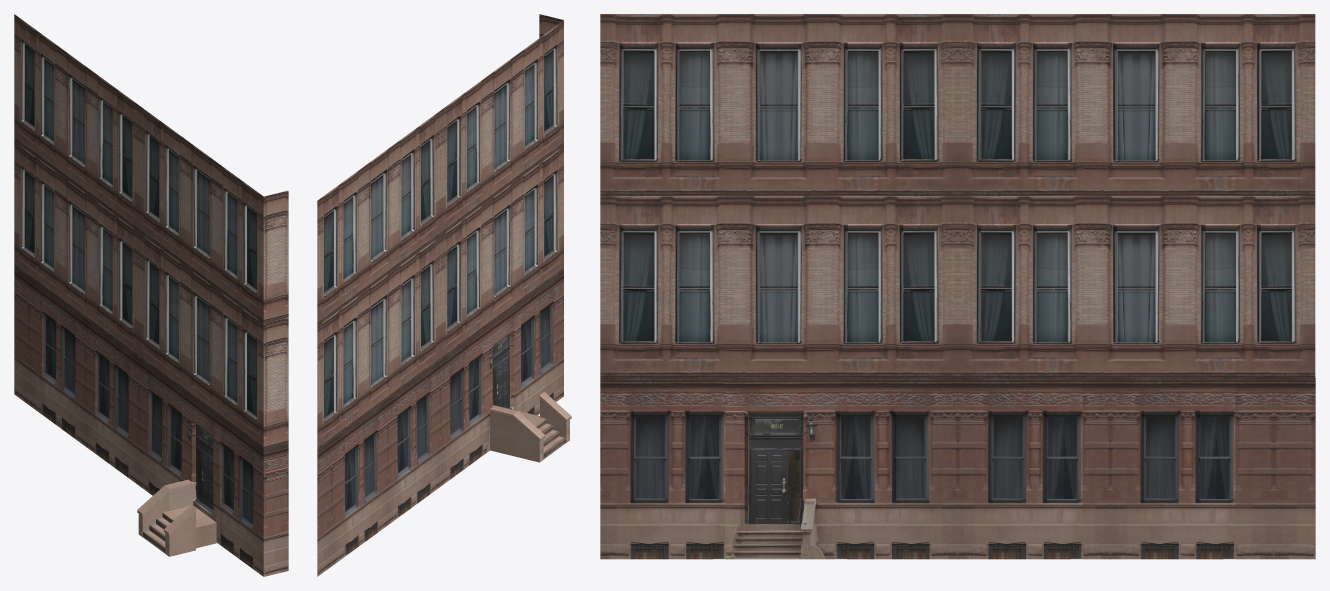
The model's file is OW_Building_01.FBX.
The picture shows the model from 3 angles, left to right: view 1: azimuth 30°, elevation 25°; view 2: azimuth 150°, elevation 25°; view 3: azimuth 270°, elevation 25°; orthographic projection. The views are drawn at different scales.
Visible parts, largest first — view 1: OW_Building_01; view 2: OW_Building_01; view 3: OW_Building_01.
Part boxes in pixels (<box>): OW_Building_01: <box>14,14,288,576</box>; OW_Building_01: <box>317,14,571,576</box>; OW_Building_01: <box>600,14,1315,559</box>.
Bounding box in the file's own units: 218 × 1040 × 1234.
